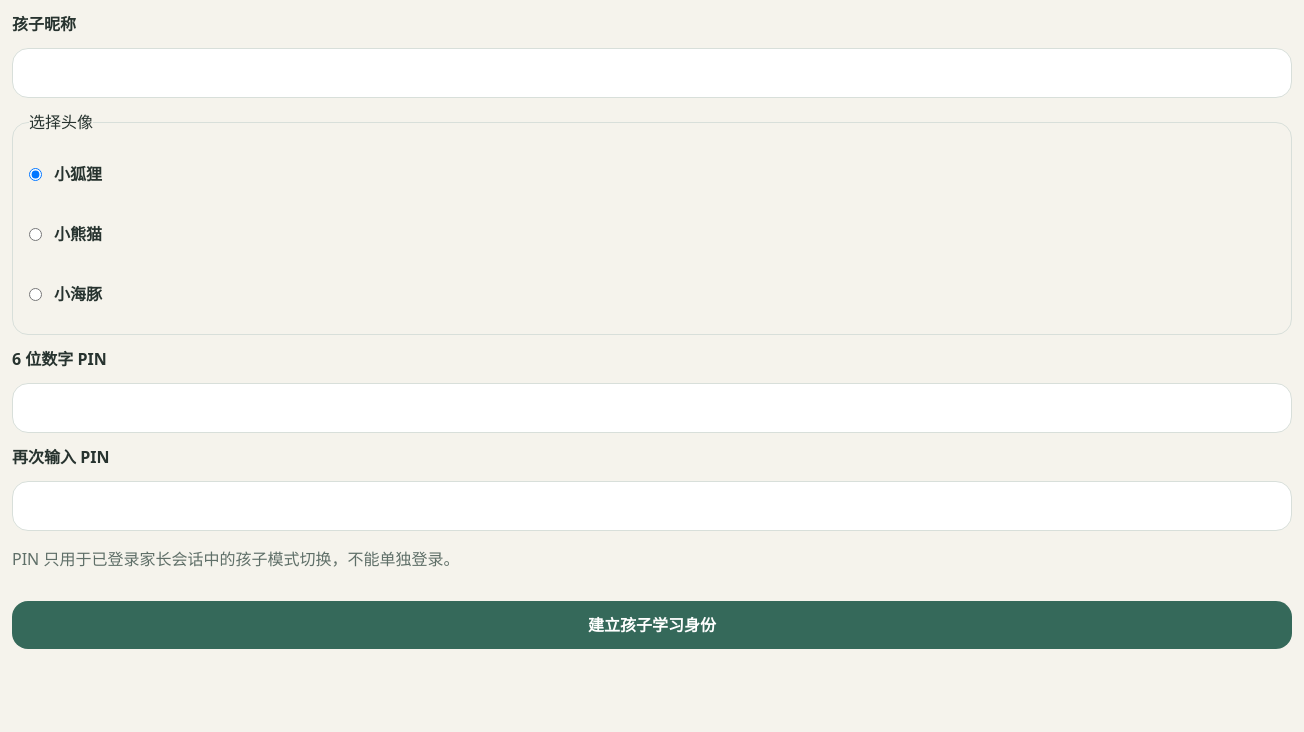
Scenario: CreateLearnerForm › rejects mismatched PIN values without sending them
This screenshot has width=1304, height=732.
Type "小星" into the field labelled "孩子昵称" at (652, 73), box [12, 48, 1292, 98]
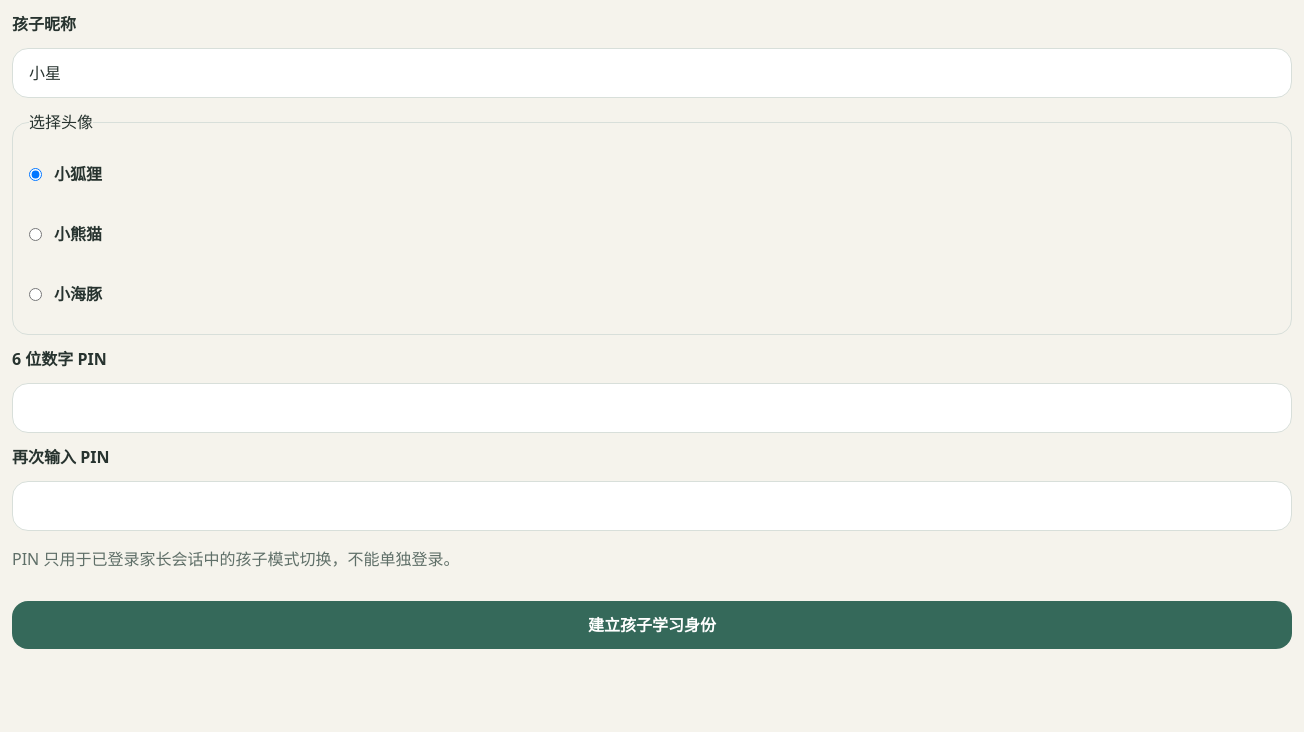
Type "123456" into the password field labelled "6 位数字 PIN" at (652, 408), box [12, 383, 1292, 433]
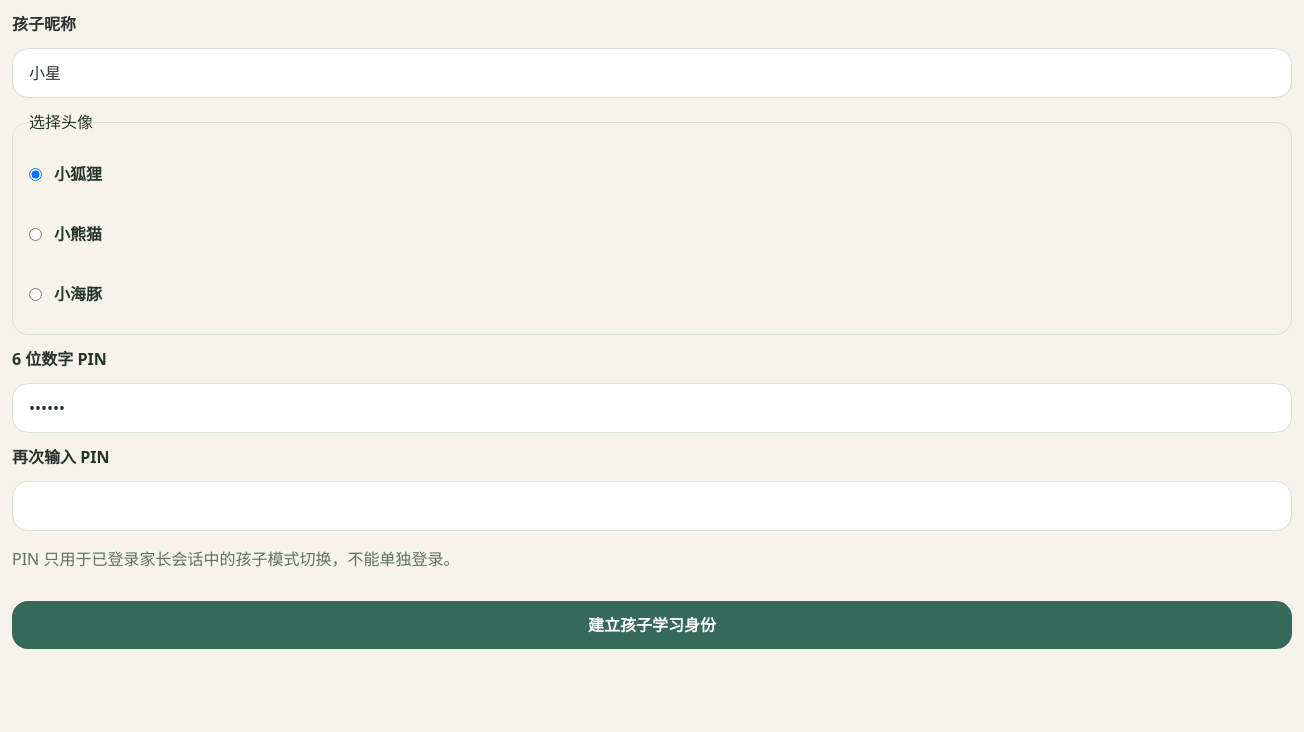
Type "654321" into the password field labelled "再次输入 PIN" at (652, 506), box [12, 481, 1292, 531]
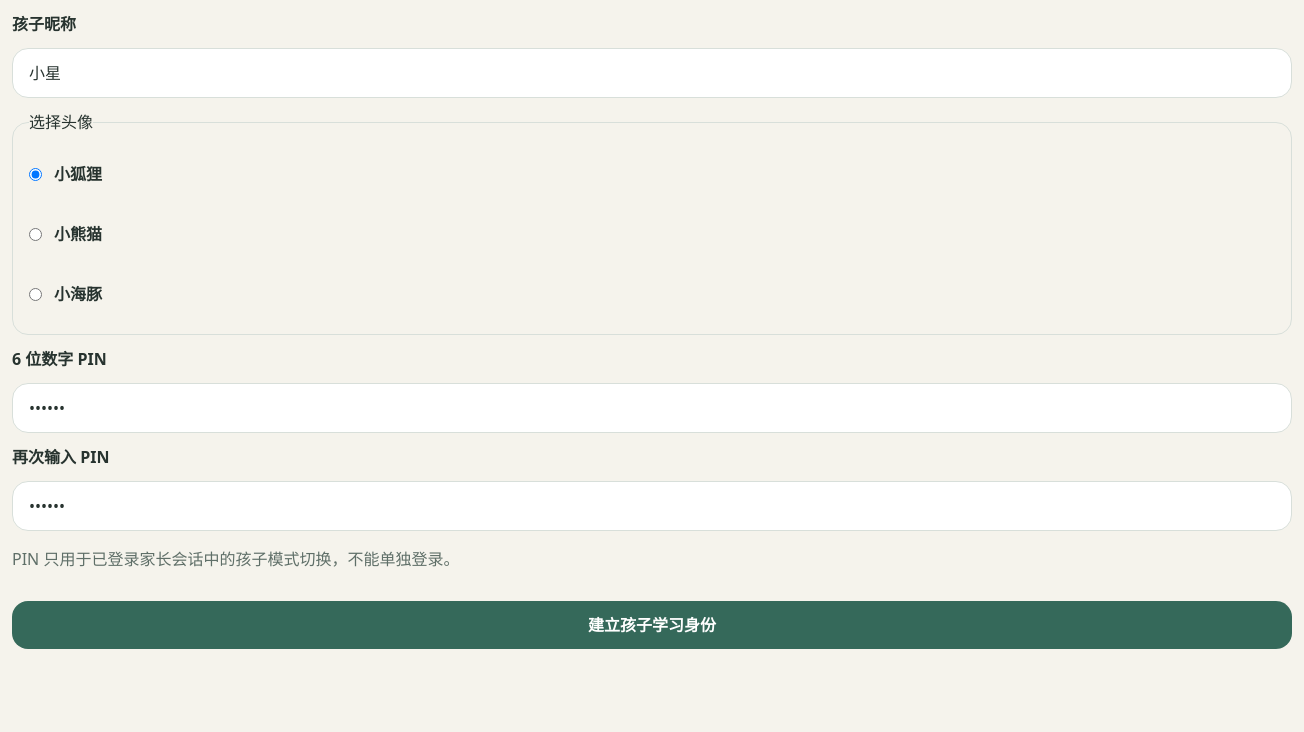
Submit the form "建立孩子学习身份"
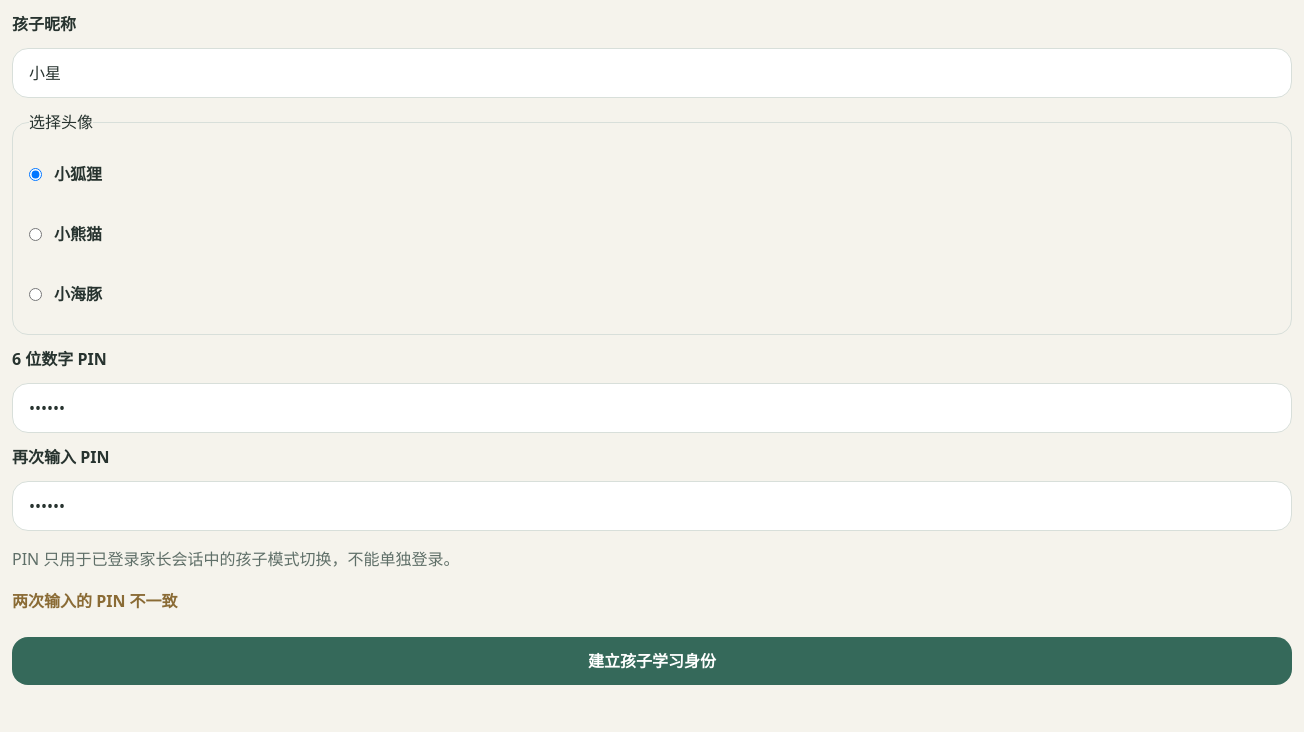
Check: the message reads "两次输入的 PIN 不一致", box [12, 590, 178, 612]
